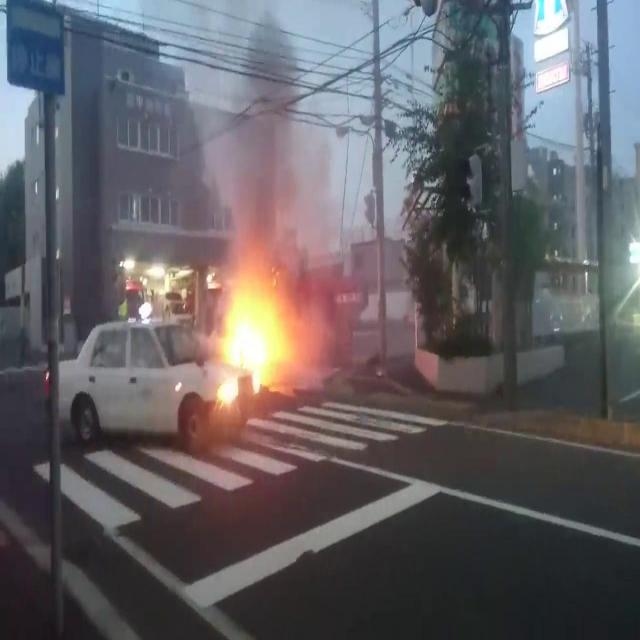Fire: (217, 283, 289, 401)
